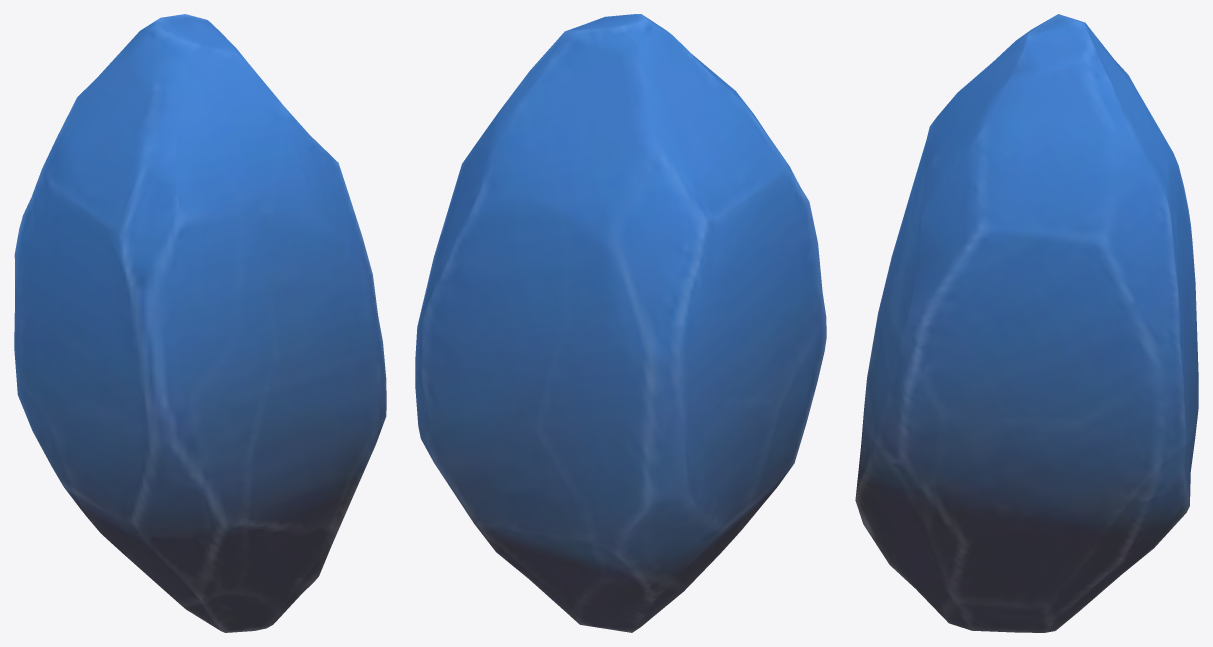
The model's file is cristal.glb.
3 views of the same model, side by side, from view 1: azimuth 30°, elevation 25°; view 2: azimuth 150°, elevation 25°; view 3: azimuth 270°, elevation 25° (orthographic). The views are drawn at different scales.
Parts seen in each view (by area): view 1: defaultMaterial; view 2: defaultMaterial; view 3: defaultMaterial.
Boxes of the visible parts, x1,y1,x2,y2 form: defaultMaterial: (14, 14, 386, 632); defaultMaterial: (415, 14, 826, 632); defaultMaterial: (855, 14, 1198, 632).
Size of the model in its own units: 0.9169 by 2 by 1.06.
1 material, 1 textured.
